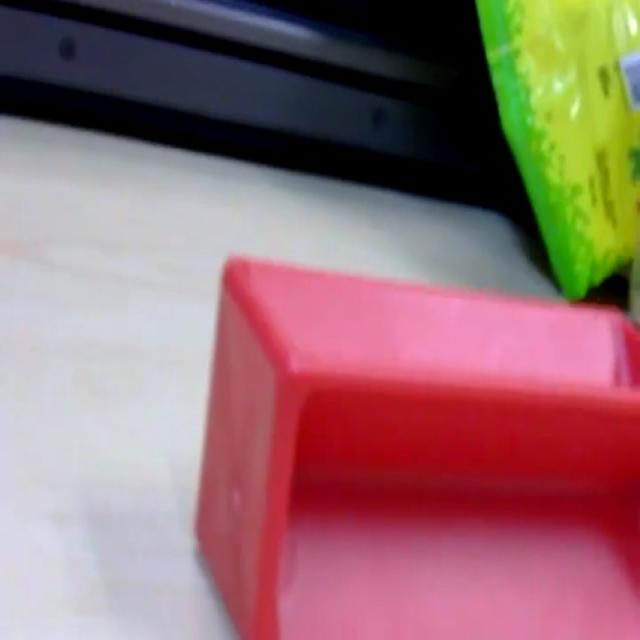red_block: (193, 249, 638, 636)
